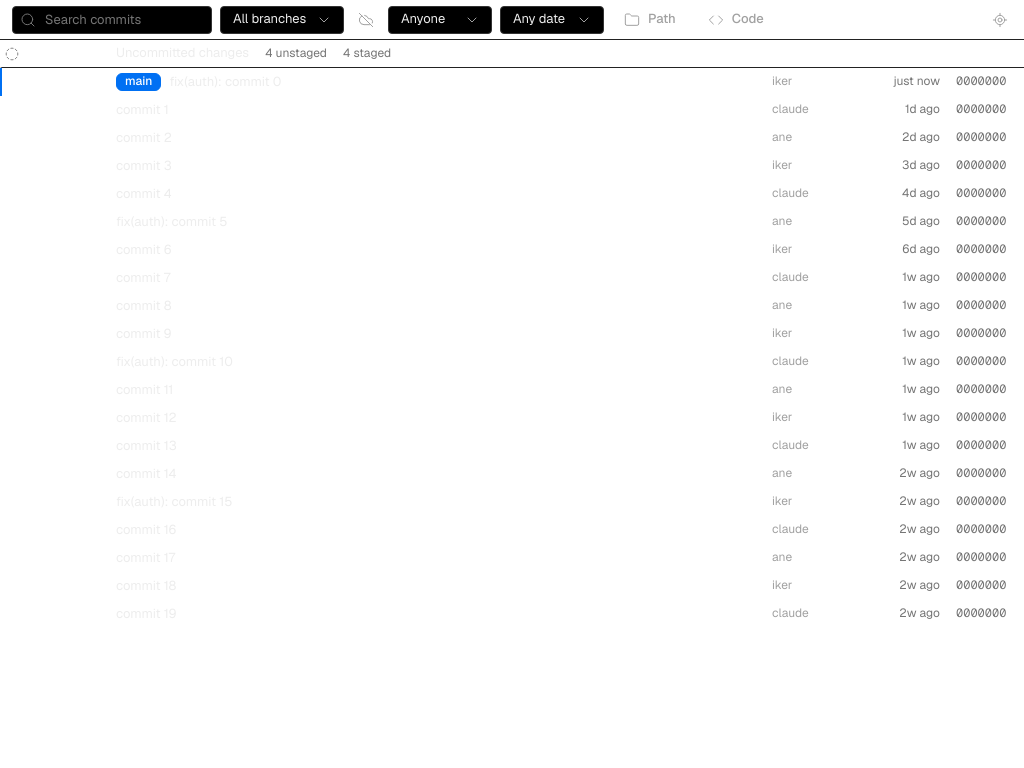
Test case: GraphPanel filters › searches the code from its popover, the button filled and reading the text
Step 1. Click the button with test id "filter-code" → (736, 20), box 696,6 -> 776,34
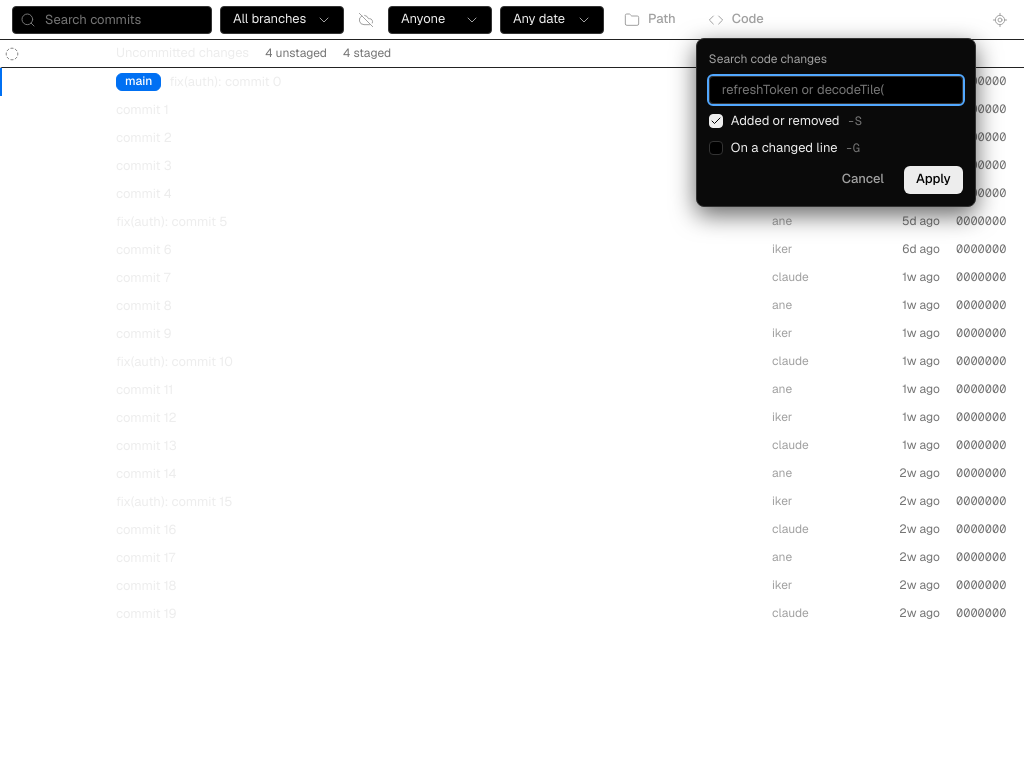
Step 2. Type "fix(auth)" into the field with test id "code-input" → (836, 90), box 709,76 -> 963,104
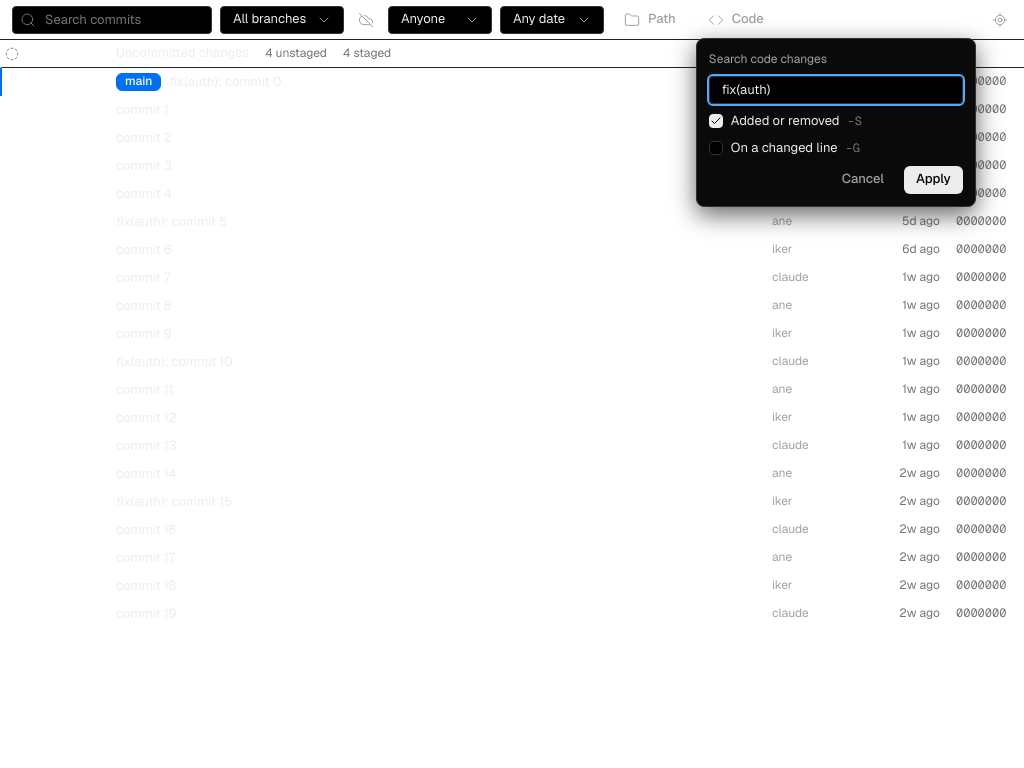
Step 3. Press Enter in the field with test id "code-input", box 709,76 -> 963,104
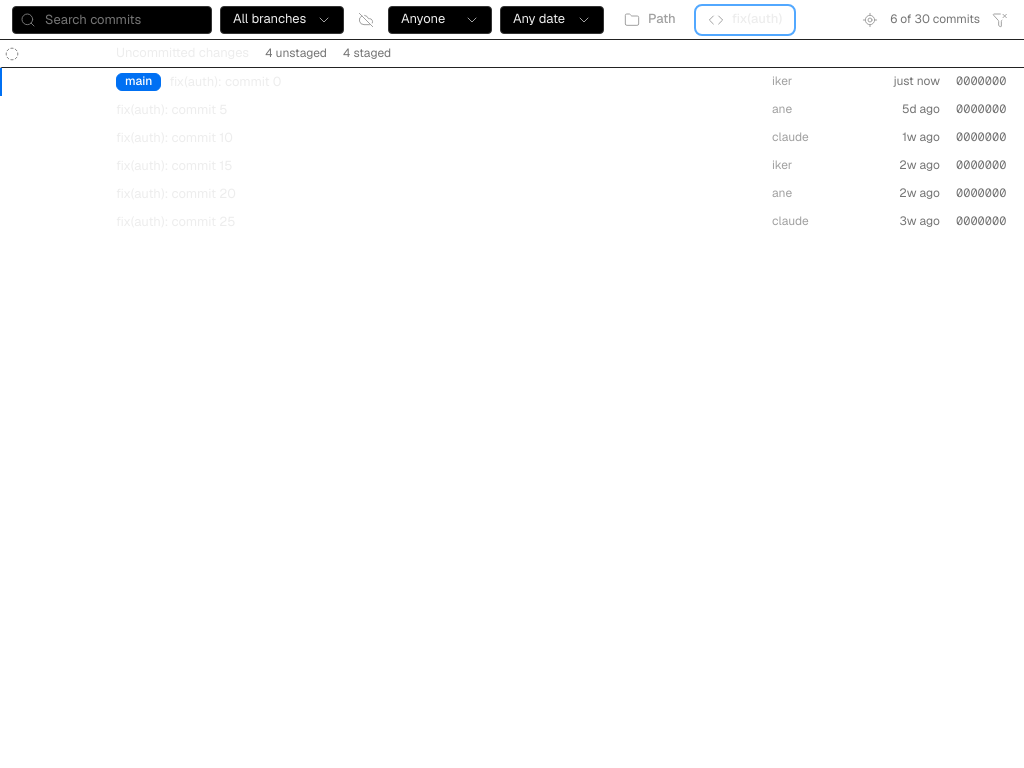
Now the button with test id "filter-code" reads "fix(auth)", box 696,6 -> 794,34
Now the number of options with test id "graph-row" is 6, box 0,68 -> 1023,96; 0,96 -> 1023,124; 0,124 -> 1023,152; 0,152 -> 1023,180; 0,180 -> 1023,208; 0,208 -> 1023,236
Now the text with test id "filter-count" reads "6 of 30 commits", box 890,11 -> 980,27
Step 4. Click the button with test id "filter-clear" → (1000, 20), box 988,8 -> 1012,32
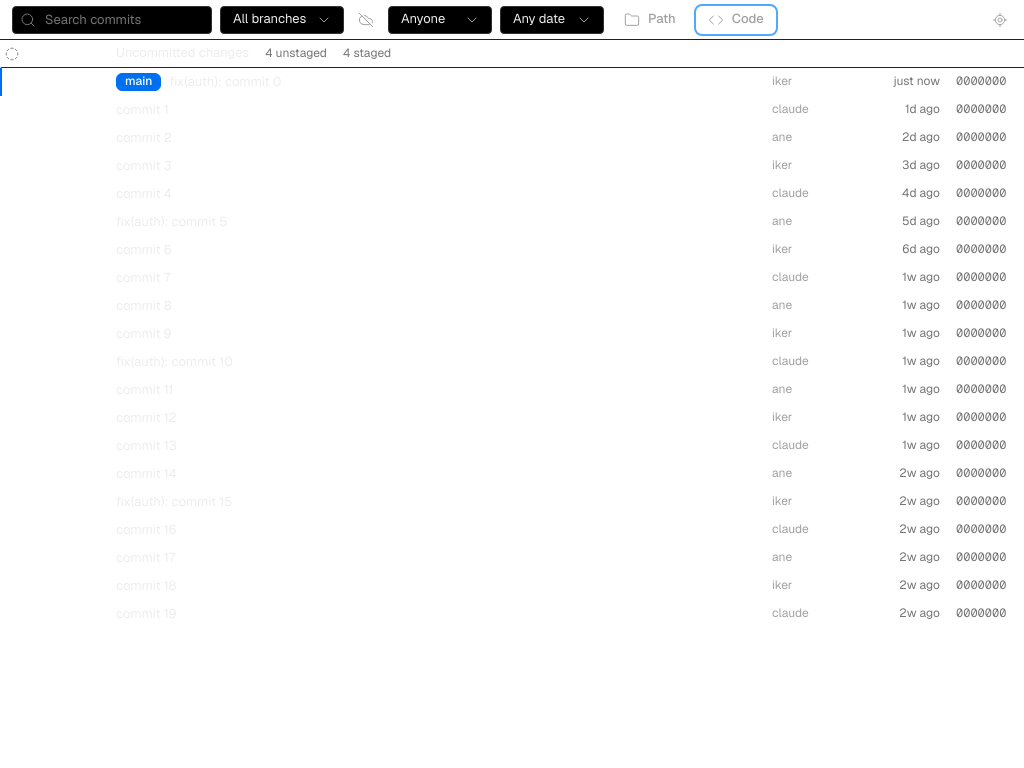
Now the button with test id "filter-code" reads "Code", box 696,6 -> 776,34
